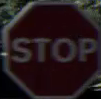Stop: (2, 16, 99, 80)
